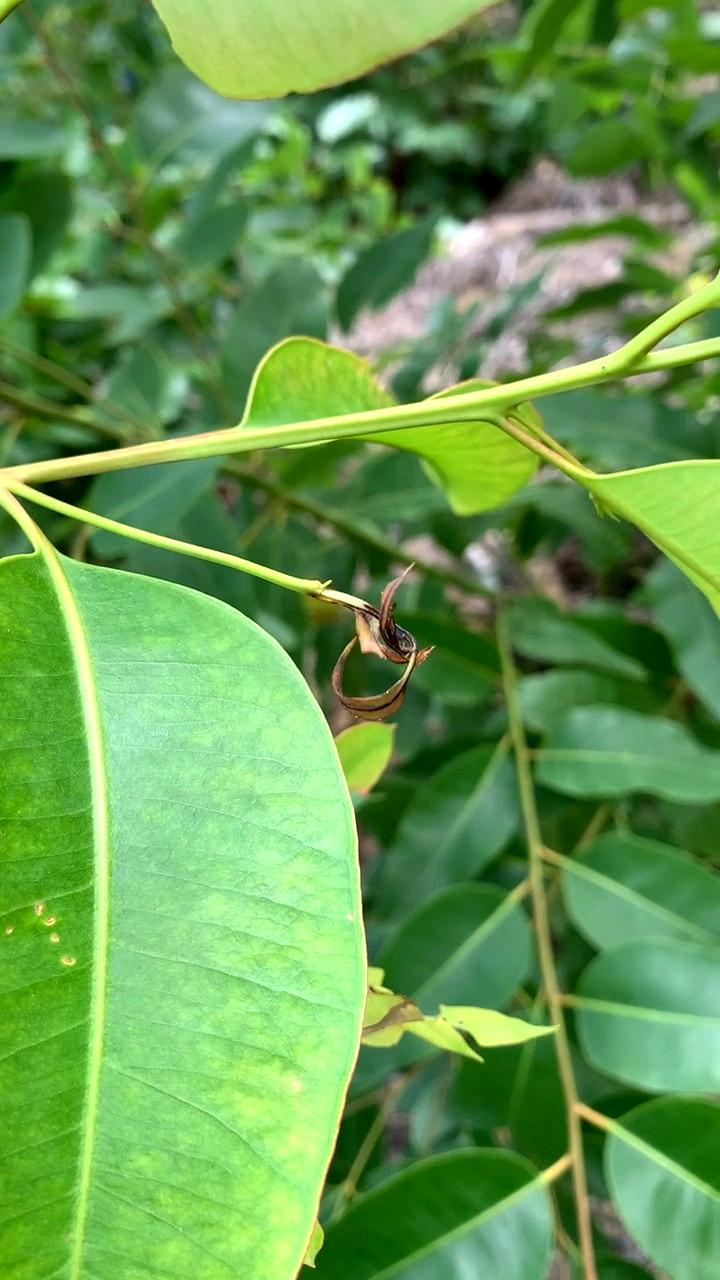Helopeltis-Withered Sprout: (323, 570, 459, 721)
